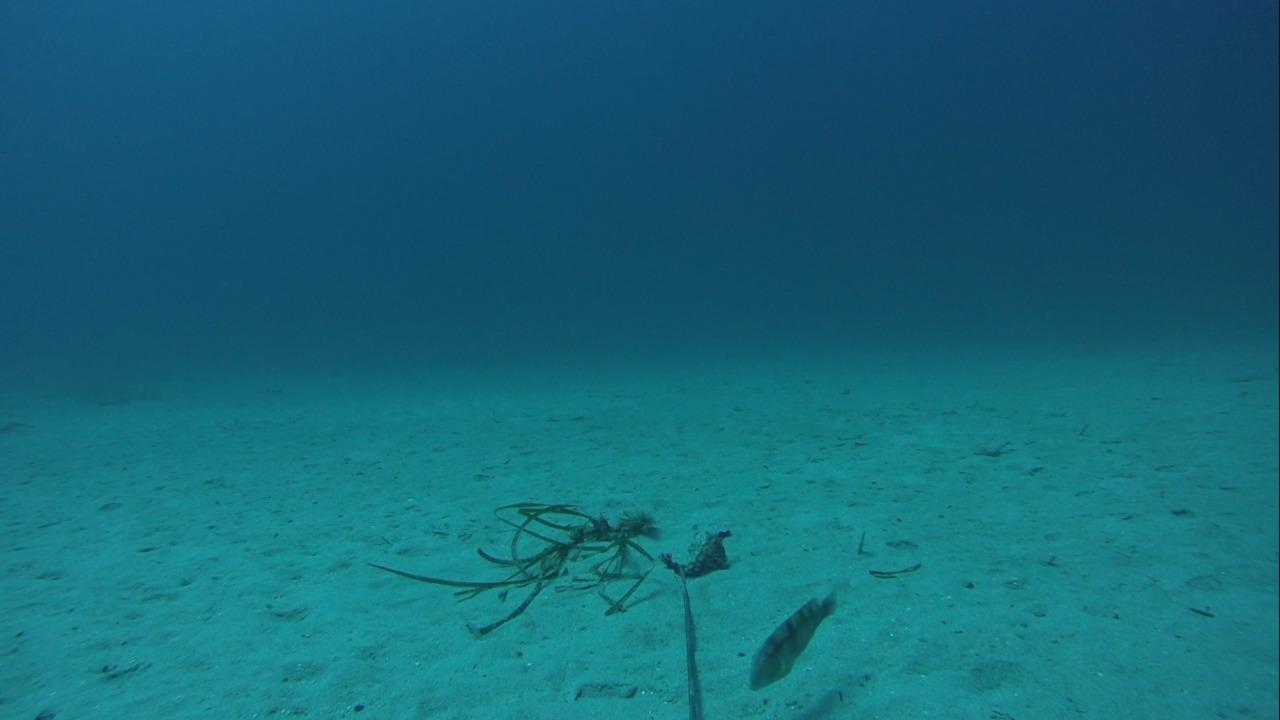raor: (747, 589, 839, 693)
